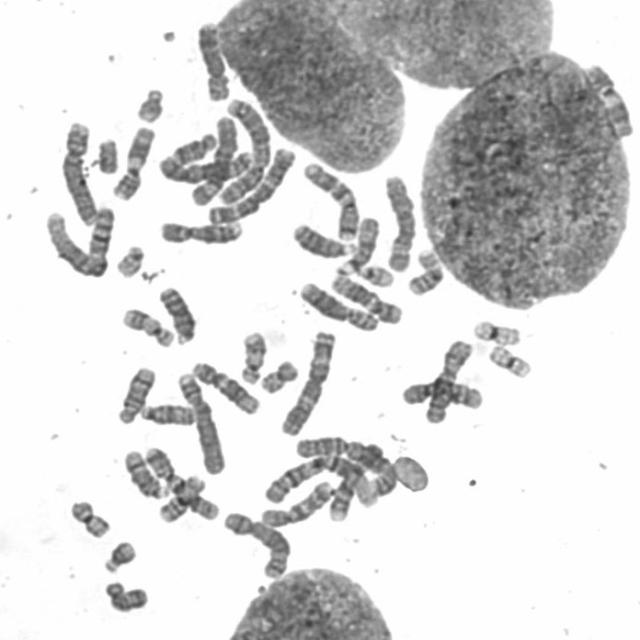A1: (261, 452, 379, 509), (41, 202, 115, 280)
A2: (291, 433, 400, 498), (214, 95, 272, 209)
A3: (204, 144, 297, 225), (276, 328, 338, 437)
B4: (175, 368, 226, 476), (59, 118, 99, 226)
B5: (220, 508, 292, 581), (154, 147, 256, 185)
C10: (258, 477, 336, 529), (398, 376, 485, 411)
C11: (583, 61, 634, 138), (108, 124, 156, 202)
C12: (189, 358, 261, 416), (328, 271, 404, 325)
C6: (188, 113, 239, 207), (380, 172, 417, 272)
C7: (140, 442, 220, 522), (299, 159, 360, 241)
C8: (296, 279, 380, 332), (193, 20, 231, 102)
C9: (324, 443, 385, 522), (157, 216, 246, 246)
D13: (154, 282, 196, 346), (292, 219, 356, 253)
D14: (119, 446, 169, 500), (116, 367, 160, 428)
D15: (331, 215, 380, 279), (136, 400, 199, 427)
E16: (155, 476, 196, 524), (405, 248, 445, 297)
E17: (120, 306, 176, 349), (236, 329, 268, 386)
E18: (165, 128, 218, 168), (100, 580, 149, 614)
F19: (486, 342, 534, 380), (469, 317, 522, 347)
F20: (67, 497, 112, 540), (257, 356, 297, 395)
G21: (100, 538, 135, 573), (132, 85, 162, 124)
G22: (352, 261, 396, 288), (112, 242, 140, 280)
X: (421, 336, 475, 426)
Y: (95, 136, 120, 174)
